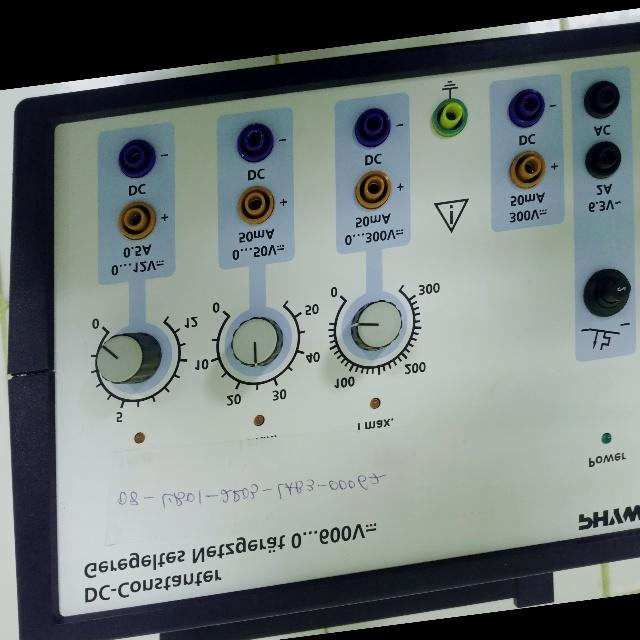DC Constant Power Supply 0-600V: (18, 5, 640, 640)
